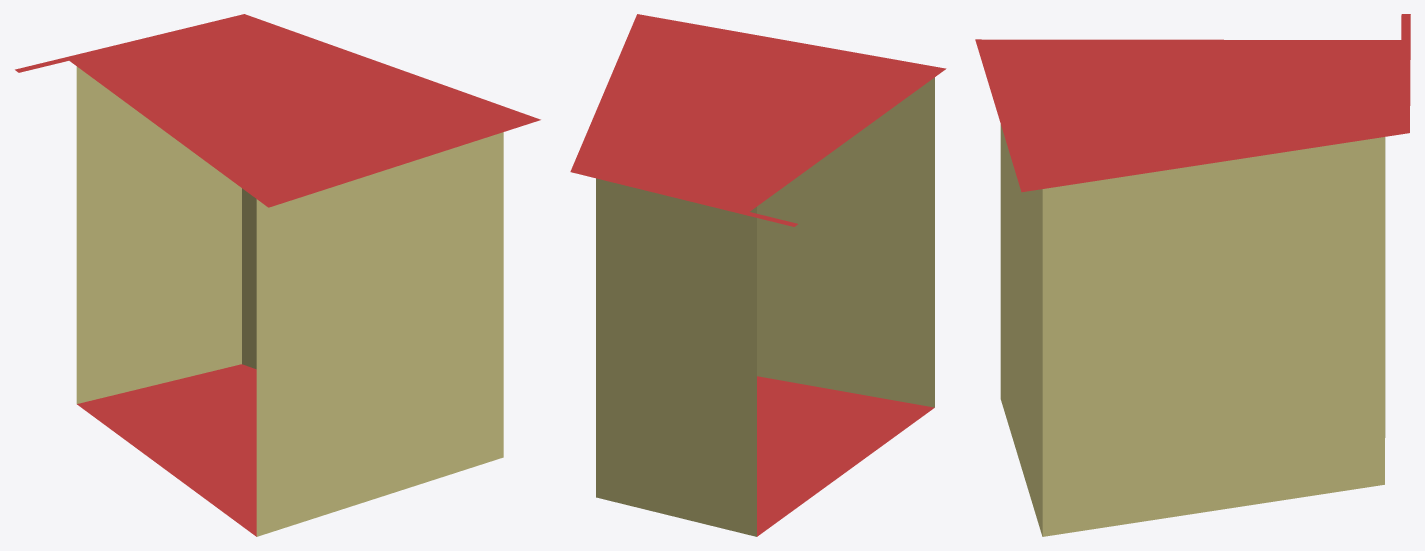
3 views of the same model, side by side, from view 1: azimuth 30°, elevation 25°; view 2: azimuth 150°, elevation 25°; view 3: azimuth 270°, elevation 25° (orthographic). The views are drawn at different scales.
Size of the model in its own units: 8.37 by 8.64 by 7.86.
